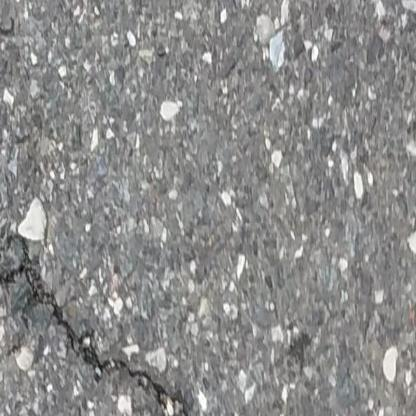Cracks: (0, 227, 201, 416)
